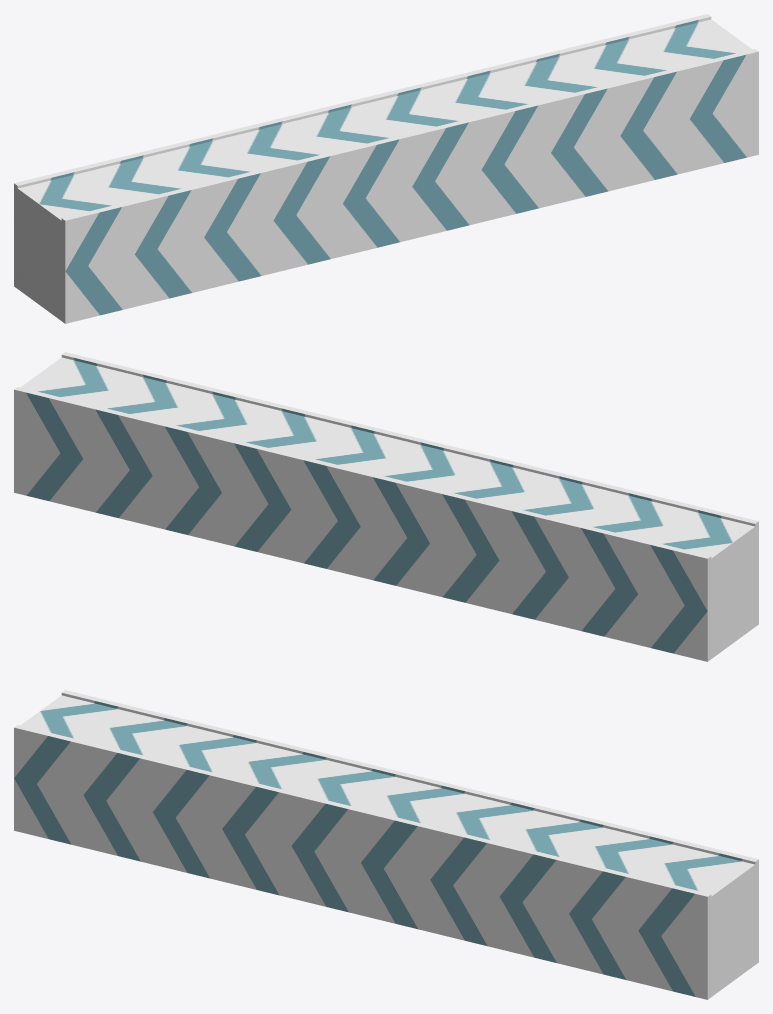
File: Walk Ramp.fbx
3 renders of one model, top to bottom at view 1: azimuth 30°, elevation 25°; view 2: azimuth 150°, elevation 25°; view 3: azimuth 330°, elevation 25°, orthographic.
Visible parts, largest first — view 1: Walk_Ramp; view 2: Walk_Ramp; view 3: Walk_Ramp.
Part boxes in pixels (x1,y1,x2,y2): Walk_Ramp: (14, 14, 758, 323); Walk_Ramp: (14, 352, 758, 661); Walk_Ramp: (14, 690, 758, 999).
Bounding box in the file's own units: 10000 × 1421 × 1282.
1 material, 1 textured.
